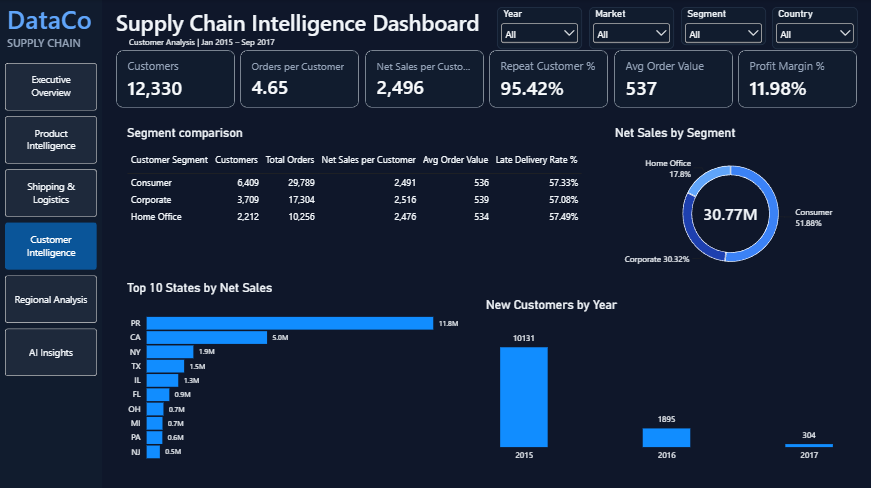

This screenshot's page, from the dashboard's own definition file:
{"tool":"powerbi","page":{"name":"Customer Intelligence","canvas":[1280,720],"ordinal":3},"visuals":[{"type":"shape","box":[0,0,150,720],"z":0},{"type":"textbox","box":[10,4.4,136.1,62.6],"z":1000},{"type":"textbox","box":[10,52.9,136.1,41],"z":2000},{"type":"textbox","box":[170,12,600,50],"z":3000},{"type":"cardVisual","fields":{"Data":["Table.Orders per Customer"]},"box":[353,75,175,85],"z":4000},{"type":"cardVisual","fields":{"Data":["Table.Net Sales per Customer"]},"box":[536,75,175,85],"z":5000},{"type":"cardVisual","fields":{"Data":["Table.Repeat Customer %"]},"box":[719,75,175,85],"z":6000},{"type":"cardVisual","fields":{"Data":["Table.Avg Order Value"]},"box":[902,75,175,85],"z":7000},{"type":"cardVisual","fields":{"Data":["Table.Profit Margin %"]},"box":[1085,75,175,85],"z":8000},{"type":"cardVisual","fields":{"Data":["Table.Customers"]},"box":[170,75,175,85],"z":9000},{"type":"slicer","title":"Year","fields":{"Values":["Calender.Year"]},"box":[730.3,11.8,124.9,61.7],"z":10000},{"type":"slicer","title":"Year","fields":{"Values":["DataCo.Market"]},"box":[865.5,11.8,124.9,61.7],"z":11000},{"type":"slicer","title":"Year","fields":{"Values":["DataCo.Customer Segment"]},"box":[1000.7,11.8,124.9,55.8],"z":12000},{"type":"slicer","title":"Year","fields":{"Values":["DataCo.Customer Country"]},"box":[1134.4,11.8,126.4,61.7],"z":13000},{"type":"columnChart","title":"New Customers by Year","fields":{"Category":["Calendar.Year"],"Y":["Table.New Customers"]},"box":[698,424.7,562.8,274.8],"z":14000},{"type":"pageNavigator","box":[7.3,94,135,462.9],"z":15000},{"type":"clusteredBarChart","title":"Top 10 States by Net Sales","fields":{"Y":["Table.Net Sales"],"Category":["DataCo.Customer State"]},"box":[170.4,399.7,520.2,299.8],"z":16000},{"type":"donutChart","title":"Net Sales by Segment","fields":{"Category":["DataCo.Customer Segment"],"Y":["Table.Net Sales"]},"box":[888,172,372,252],"z":17000},{"type":"tableEx","title":"Segment comparison","fields":{"Values":["DataCo.Customer Segment","Table.Customers","Table.Total Orders","Table.Net Sales per Customer","Table.Avg Order Value","Table.Late Delivery Rate %"]},"box":[170,172,710,252],"z":18000},{"type":"textbox","box":[189.6,52.9,229.2,30.9],"z":19000}]}

Visuals, with their boxes in screenshot pixels (x1, y1, x2, y2), scaled from the page's 1280x720 canvas onto the 871x488 screenshot:
shape: box(0, 0, 102, 487)
textbox: box(7, 3, 99, 45)
textbox: box(7, 36, 99, 64)
textbox: box(116, 8, 524, 42)
cardVisual - Table.Orders per Customer: box(240, 51, 359, 108)
cardVisual - Table.Net Sales per Customer: box(365, 51, 484, 108)
cardVisual - Table.Repeat Customer %: box(489, 51, 608, 108)
cardVisual - Table.Avg Order Value: box(614, 51, 733, 108)
cardVisual - Table.Profit Margin %: box(738, 51, 857, 108)
cardVisual - Table.Customers: box(116, 51, 235, 108)
"Year" slicer: box(497, 8, 582, 50)
"Year" slicer: box(589, 8, 674, 50)
"Year" slicer: box(681, 8, 766, 46)
"Year" slicer: box(772, 8, 858, 50)
"New Customers by Year" columnChart: box(475, 288, 858, 474)
pageNavigator: box(5, 64, 97, 377)
"Top 10 States by Net Sales" clusteredBarChart: box(116, 271, 470, 474)
"Net Sales by Segment" donutChart: box(604, 117, 857, 287)
"Segment comparison" tableEx: box(116, 117, 599, 287)
textbox: box(129, 36, 285, 57)
